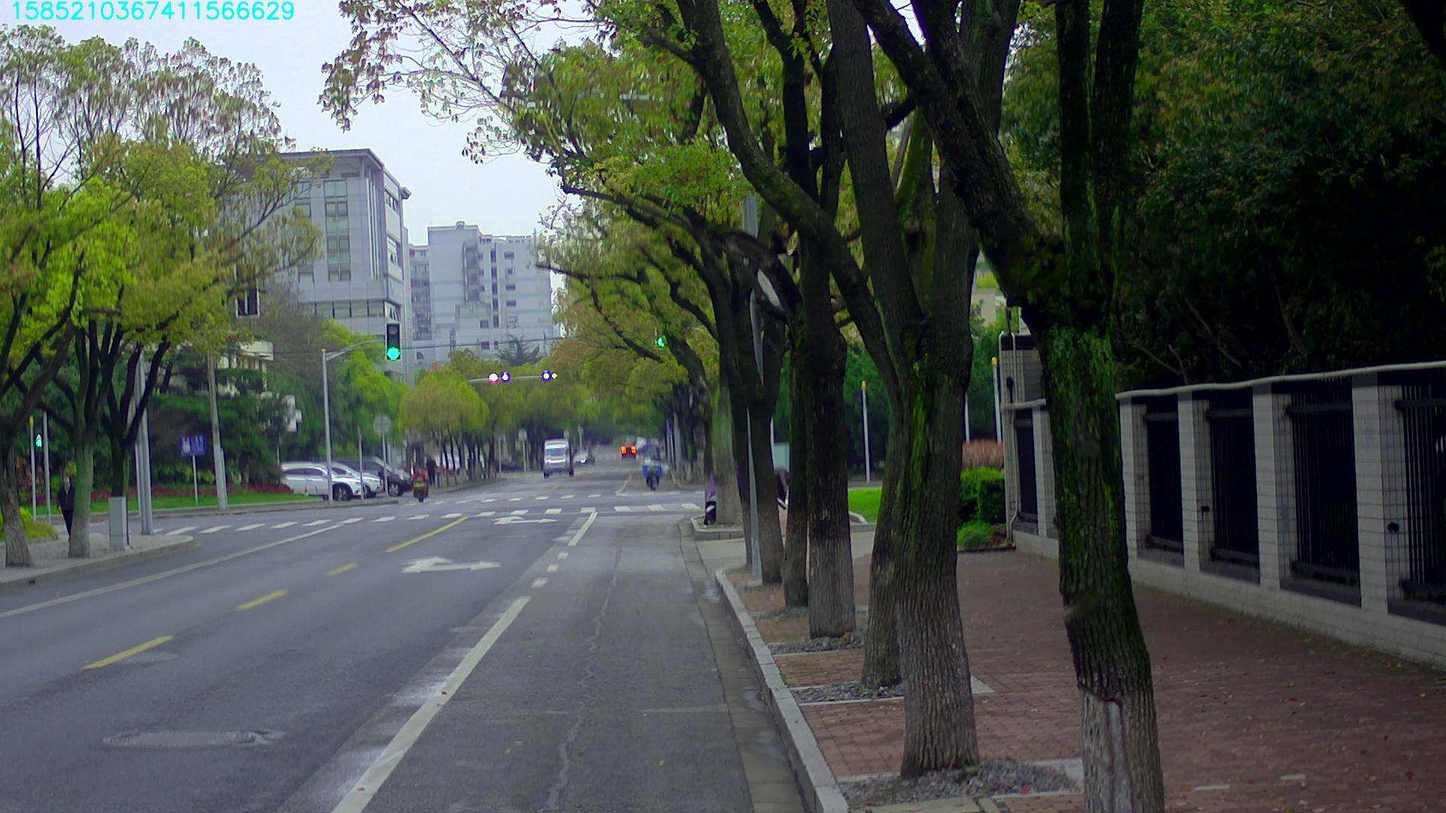green: (654, 306, 669, 349), (385, 321, 400, 360)
